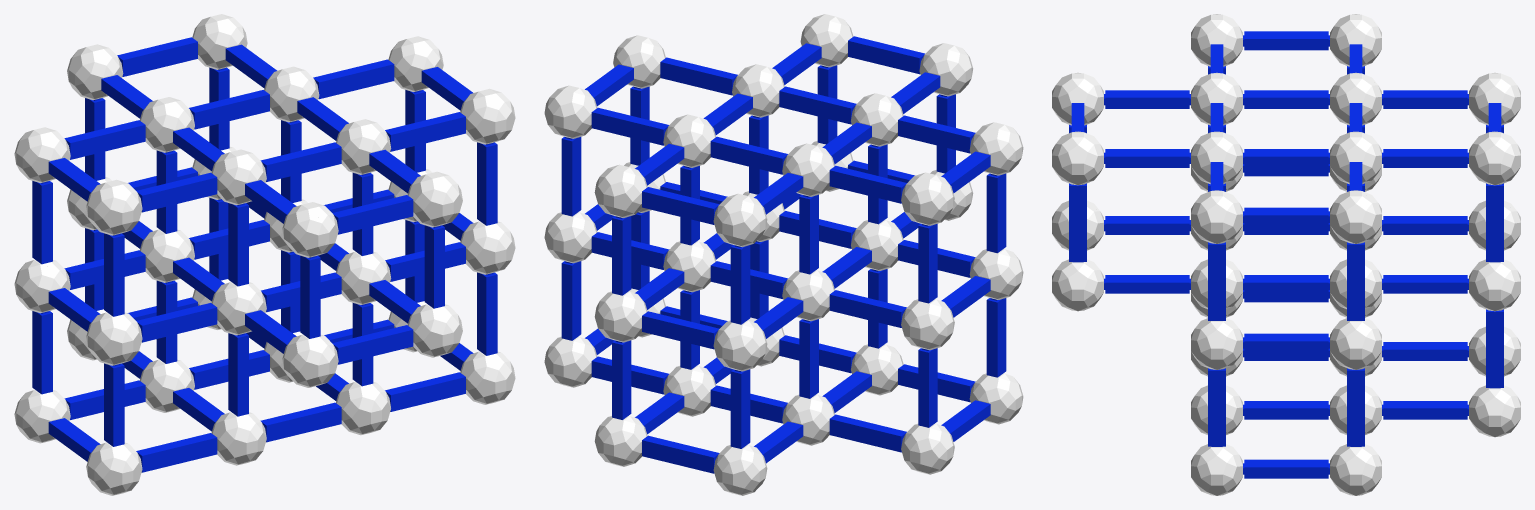
Rendered from mushroom_out.obj.
3 views of the same model, side by side, from view 1: azimuth 30°, elevation 25°; view 2: azimuth 150°, elevation 25°; view 3: azimuth 270°, elevation 25° (orthographic). The views are drawn at different scales.
Bounding box in the file's own units: 160 × 112 × 160.
